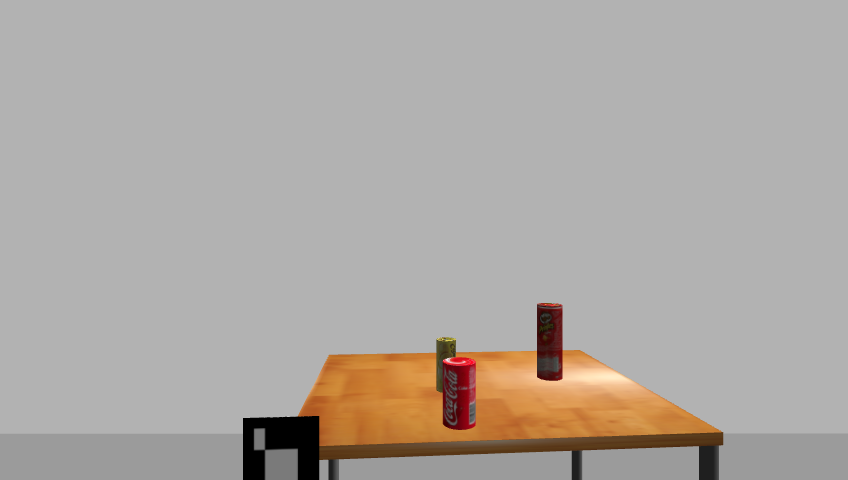aruco marker: (237, 414, 326, 480)
biscuits pack: (435, 336, 457, 394)
coke can: (440, 357, 478, 430)
dinner table: (285, 349, 732, 480)
pringles can: (534, 302, 565, 383)
